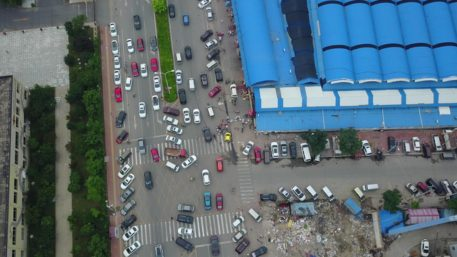bicycle: (190, 177, 196, 180), (100, 40, 103, 45), (229, 20, 234, 23), (220, 92, 225, 95), (223, 94, 226, 99), (234, 127, 239, 130), (133, 93, 135, 98), (101, 29, 102, 34)
car: (123, 241, 141, 257), (176, 237, 194, 252), (426, 178, 442, 194), (122, 226, 139, 241), (120, 214, 137, 229), (121, 199, 136, 215), (119, 187, 135, 202), (120, 173, 135, 189), (235, 238, 250, 254), (291, 185, 306, 201), (232, 228, 247, 243), (278, 187, 293, 202), (405, 183, 421, 197), (181, 155, 197, 168), (118, 164, 132, 178), (250, 246, 267, 257), (231, 215, 245, 228), (417, 182, 431, 195), (420, 239, 430, 257), (115, 111, 126, 127), (361, 140, 372, 156), (177, 214, 194, 224), (165, 135, 182, 145), (163, 106, 180, 116), (200, 29, 213, 42), (209, 85, 222, 98), (211, 235, 219, 256), (242, 141, 254, 155), (144, 171, 153, 189), (167, 125, 183, 135), (163, 116, 179, 126), (116, 130, 128, 143), (207, 48, 220, 60), (202, 127, 212, 142), (177, 204, 195, 212), (153, 76, 162, 92), (259, 193, 277, 201), (270, 142, 279, 158), (205, 39, 218, 50), (138, 137, 146, 154), (203, 192, 211, 209), (387, 136, 395, 153), (178, 89, 187, 104), (182, 108, 191, 123), (206, 7, 216, 20), (138, 102, 146, 118), (200, 72, 208, 88), (177, 227, 193, 235), (289, 142, 297, 158), (151, 148, 160, 162), (214, 68, 223, 82), (202, 170, 210, 185), (152, 95, 160, 110), (216, 193, 223, 210), (133, 15, 141, 29), (193, 109, 201, 123), (140, 63, 148, 77), (131, 62, 139, 76), (412, 137, 420, 151), (280, 140, 287, 156), (155, 245, 164, 257), (115, 87, 122, 102), (114, 70, 121, 85), (114, 54, 121, 69), (254, 147, 261, 162), (216, 157, 223, 172), (198, 0, 211, 8), (111, 40, 118, 54), (110, 23, 117, 37), (127, 39, 134, 53), (150, 36, 157, 50), (440, 153, 456, 159), (168, 4, 175, 17), (185, 46, 192, 59), (175, 70, 182, 83), (125, 78, 132, 91), (151, 58, 158, 71), (137, 38, 144, 51), (230, 84, 237, 97), (182, 14, 189, 25), (224, 133, 231, 142), (453, 181, 457, 195), (231, 256, 248, 257), (227, 120, 229, 123)
motor: (180, 123, 187, 127), (225, 80, 231, 84), (231, 188, 234, 195), (217, 97, 222, 101), (234, 110, 240, 113), (241, 127, 244, 133), (213, 133, 216, 139), (225, 77, 229, 81), (225, 116, 229, 120), (124, 68, 127, 73), (226, 9, 231, 12), (127, 138, 129, 144), (124, 63, 127, 67), (223, 49, 225, 54)
pedestrian: (220, 19, 223, 24), (127, 74, 130, 78), (124, 68, 127, 72), (221, 119, 224, 123), (220, 123, 223, 127), (176, 105, 179, 108), (256, 192, 259, 195), (321, 163, 324, 166), (231, 98, 234, 101), (195, 163, 198, 166), (172, 237, 174, 241), (247, 253, 249, 257), (234, 100, 236, 104), (234, 103, 236, 107), (245, 121, 247, 125), (171, 217, 173, 220), (237, 214, 240, 216), (238, 207, 240, 210), (241, 209, 243, 212), (252, 194, 254, 197), (317, 165, 319, 168), (291, 166, 293, 169), (230, 66, 232, 69), (232, 102, 234, 105), (218, 133, 220, 136), (219, 130, 221, 133), (216, 0, 218, 2), (294, 165, 296, 167), (217, 128, 218, 132), (218, 0, 220, 1), (221, 0, 223, 1), (249, 256, 251, 257)
people: (124, 62, 127, 66), (236, 110, 239, 114), (226, 116, 229, 120), (182, 123, 185, 126), (219, 96, 222, 99), (225, 125, 228, 128), (191, 177, 194, 180), (127, 139, 129, 143), (232, 189, 234, 193), (133, 93, 135, 96)
tricycle: (377, 147, 383, 159)
truck: (439, 179, 457, 202), (442, 130, 457, 150), (164, 147, 187, 158), (332, 135, 342, 157), (352, 138, 361, 160), (323, 137, 330, 150)
van: (118, 149, 132, 164), (305, 185, 319, 200), (321, 186, 335, 201), (300, 142, 311, 161), (352, 187, 365, 202), (430, 134, 442, 150), (248, 208, 261, 222), (165, 161, 180, 172), (422, 143, 431, 158), (206, 60, 218, 71), (362, 184, 378, 191), (402, 140, 410, 154), (206, 106, 215, 118), (263, 149, 270, 164), (188, 78, 195, 91), (313, 150, 320, 163), (175, 52, 182, 64), (454, 139, 457, 154)
